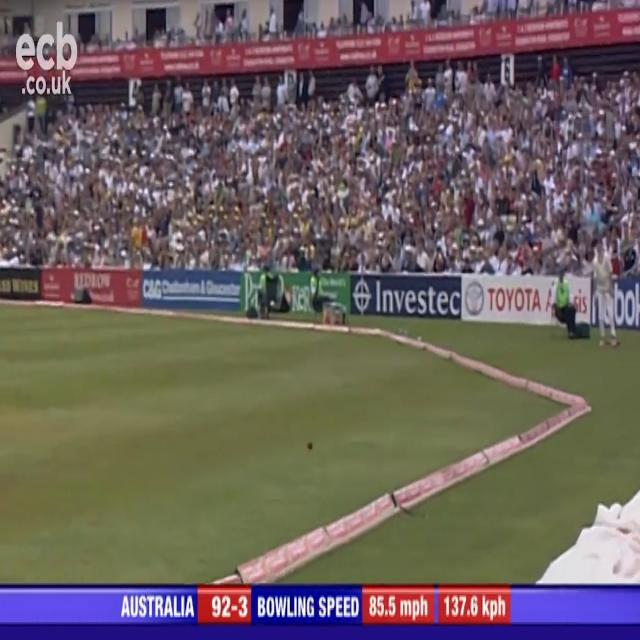ball: (305, 438, 314, 456)
